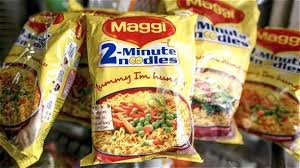maggie: (87, 15, 200, 162), (1, 7, 85, 163), (176, 3, 249, 145)
